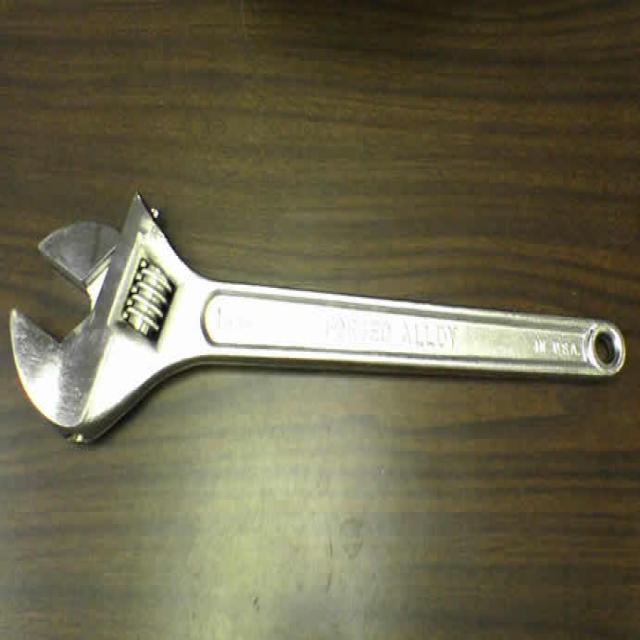wrench: (5, 182, 629, 457)
